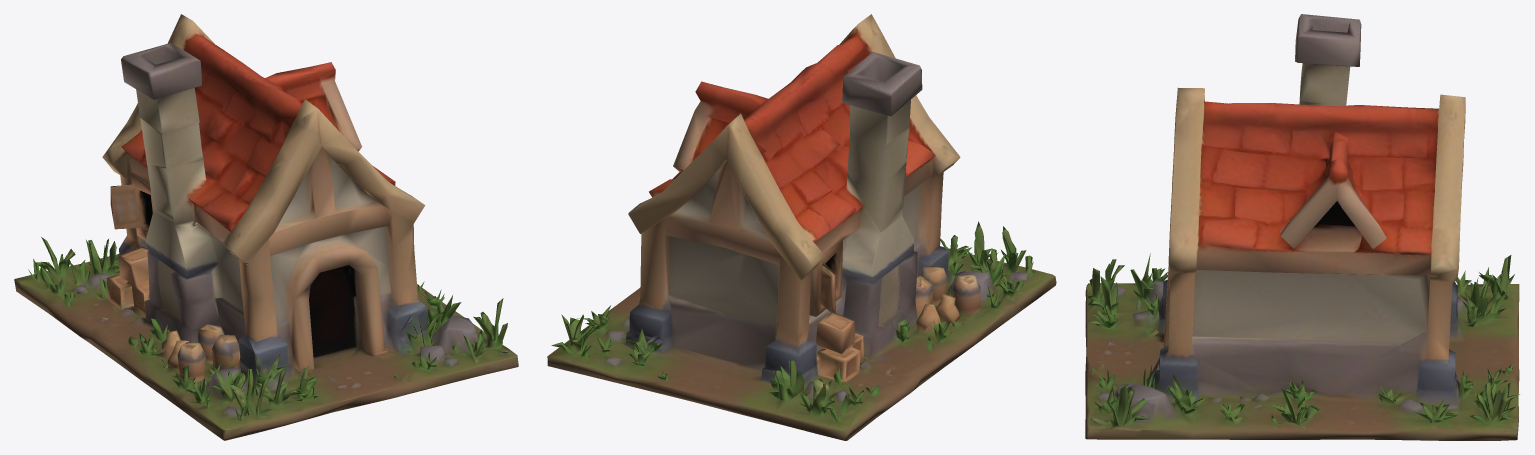
The picture shows the model from 3 angles, left to right: view 1: azimuth 30°, elevation 25°; view 2: azimuth 150°, elevation 25°; view 3: azimuth 270°, elevation 25°; orthographic projection. The views are drawn at different scales.
Parts seen in each view (by area): view 1: tripo_node_85d10561-fe85-4002-8b14-3ae9f3348883; view 2: tripo_node_85d10561-fe85-4002-8b14-3ae9f3348883; view 3: tripo_node_85d10561-fe85-4002-8b14-3ae9f3348883.
Part boxes in pixels (<box>): tripo_node_85d10561-fe85-4002-8b14-3ae9f3348883: <box>14,14,518,440</box>; tripo_node_85d10561-fe85-4002-8b14-3ae9f3348883: <box>547,14,1056,440</box>; tripo_node_85d10561-fe85-4002-8b14-3ae9f3348883: <box>1085,14,1519,440</box>.
Size of the model in its own units: 0.8202 by 0.7589 by 1.
Materials: 1 (1 with a texture image).
